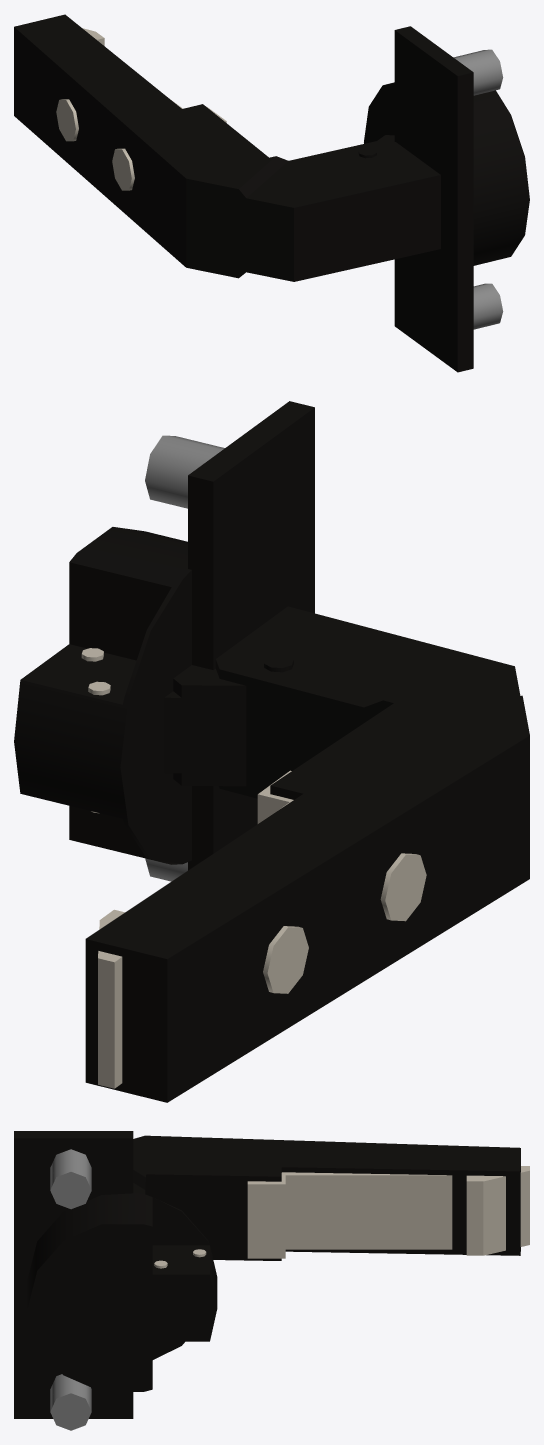
3 views of the same model, one above another, from view 1: azimuth 30°, elevation 25°; view 2: azimuth 150°, elevation 25°; view 3: azimuth 270°, elevation 25° (orthographic). The views are drawn at different scales.
Visible parts, largest first — view 1: bau0019057259-1, bau0015166285-1; view 2: bau0019057259-1, bau0015166285-1, bau0015167363-1, bau0019426112-1; view 3: bau0015166285-1, bau0019057259-1, bau0019426112-1.
Boxes of the visible parts, x1,y1,x2,y2 form: bau0019057259-1: (14, 14, 440, 281); bau0015166285-1: (364, 26, 529, 372); bau0019057259-1: (85, 606, 529, 1102); bau0015166285-1: (14, 401, 314, 881); bau0015167363-1: (164, 665, 246, 786); bau0019426112-1: (98, 770, 293, 1088); bau0015166285-1: (14, 1131, 217, 1430); bau0019057259-1: (133, 1135, 520, 1260); bau0019426112-1: (247, 1166, 529, 1258).
Size of the model in its own units: 56.77 by 57 by 95.
